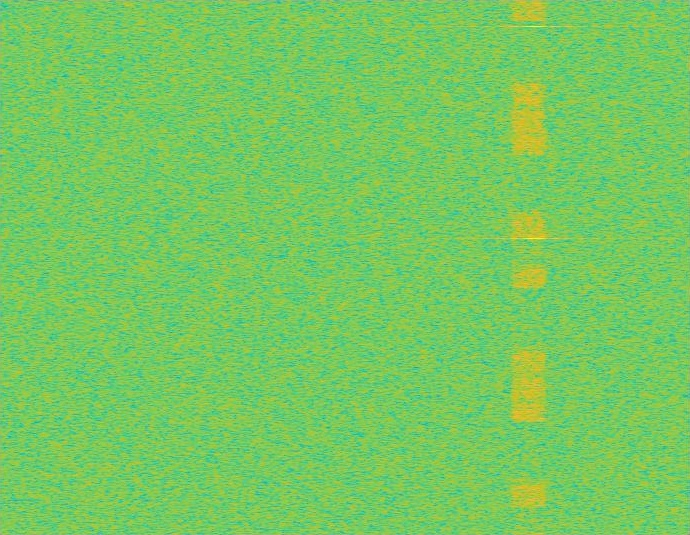LTE: (512, 0, 546, 534)
Radar: (528, 0, 542, 534)
